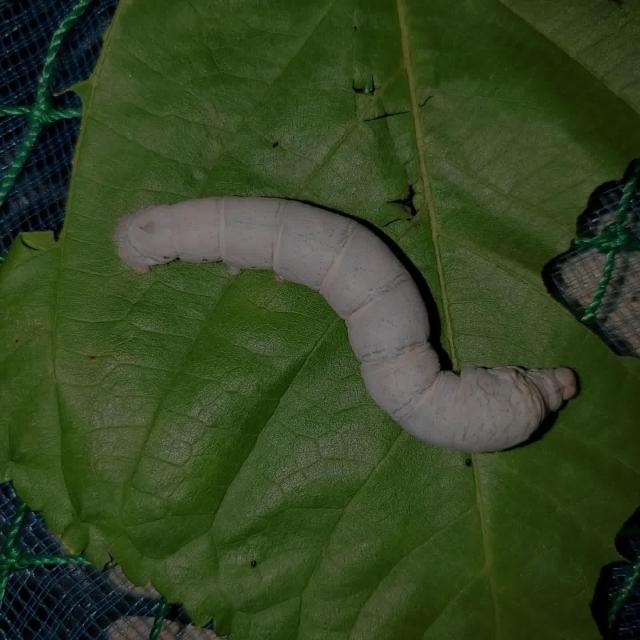Healthy: (80, 168, 586, 470)
